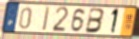0: (17, 6, 34, 30)
1: (109, 8, 120, 36)
2: (52, 6, 70, 33)
6: (70, 8, 87, 33)
B: (84, 7, 106, 34)
I: (42, 6, 51, 32)
